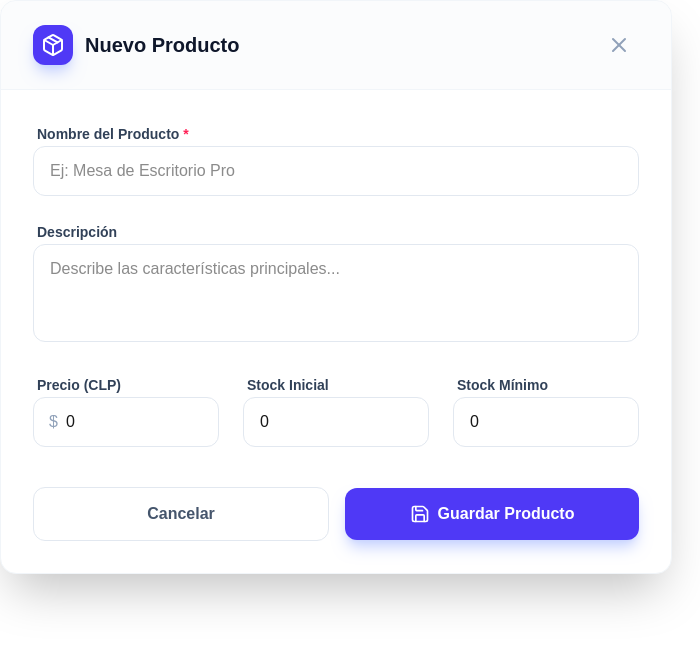
Scenario: ProductoForm › submit sin nombre muestra mensaje de error de validación
Click the button "Guardar Producto" at (492, 514), box 345,488 -> 639,540
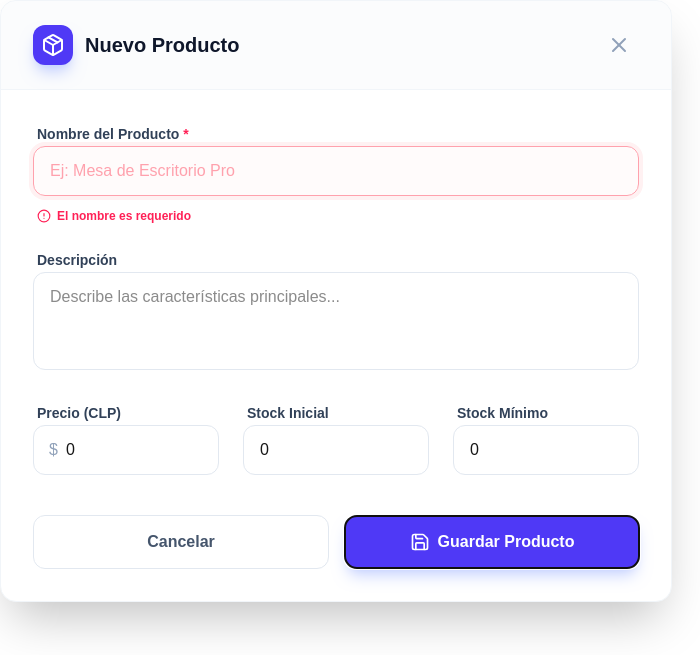
Check: the text "El nombre es requerido" is shown, box 37,209 -> 191,223
